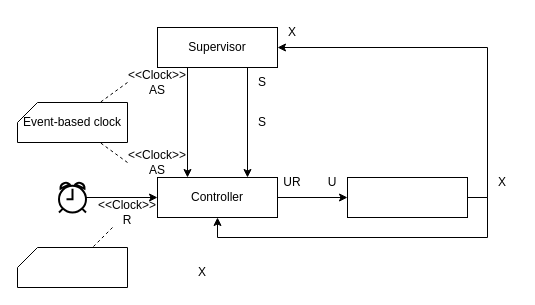
Image size: 535x305. Some labels were removed from this diagram. The centre of each missing label's shape, as x and y in pixels:
"Plant" goes at pixel 407 197.
"Time-triggered clock" goes at pixel 72 267.
